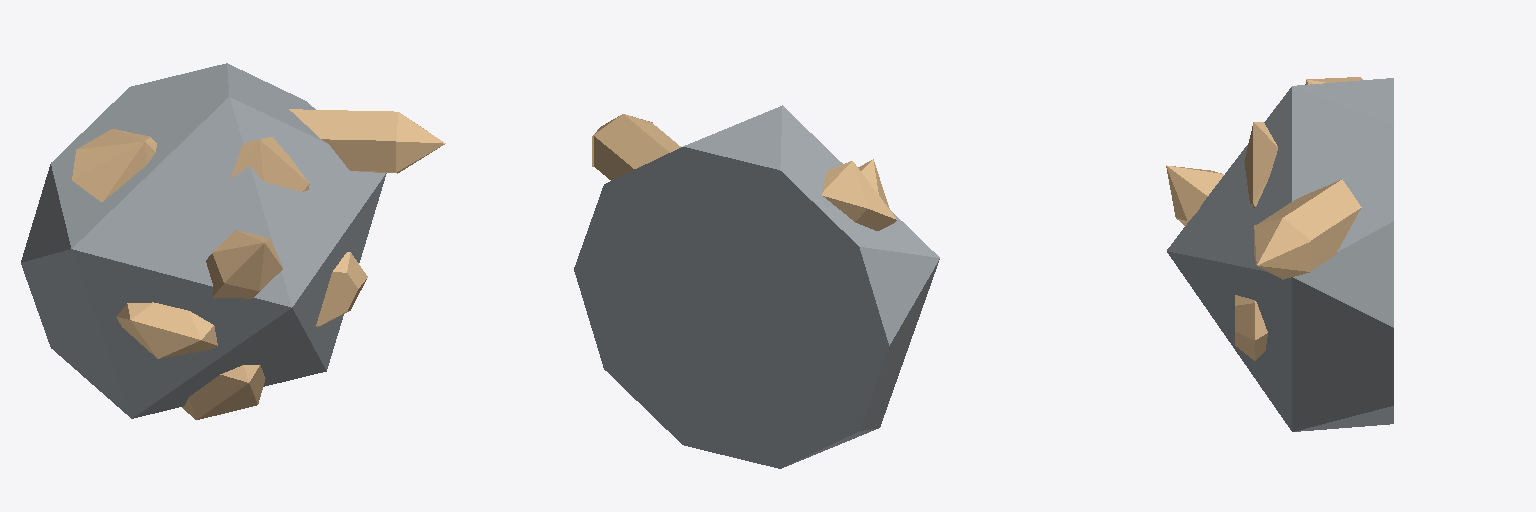
Rendered from tinker.obj.
3 renders of one model, left to right at view 1: azimuth 30°, elevation 25°; view 2: azimuth 150°, elevation 25°; view 3: azimuth 270°, elevation 25°, orthographic.
Parts seen in each view (by area): view 1: obj_0; view 2: obj_0; view 3: obj_0.
Part boxes in pixels (x1,y1,x2,y2): obj_0: (21, 63, 445, 419); obj_0: (574, 105, 939, 468); obj_0: (1166, 77, 1393, 431).
Size of the model in its own units: 54.83 by 47 by 30.35.